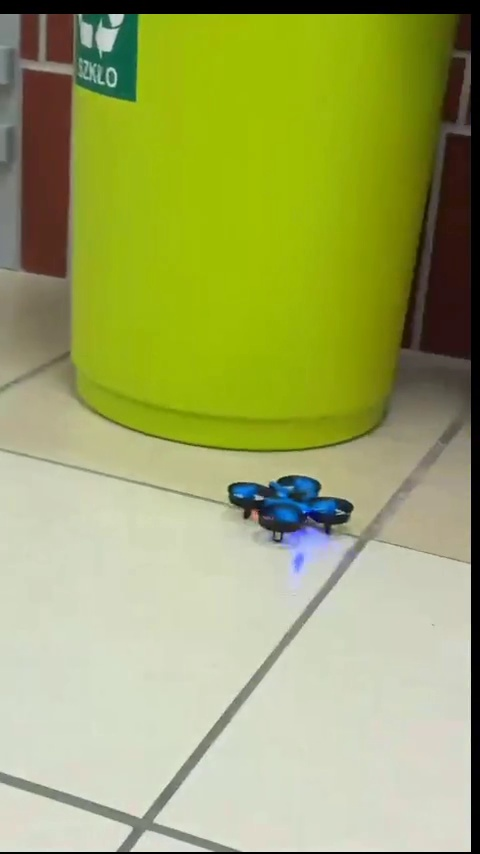drone: (233, 474, 350, 541)
